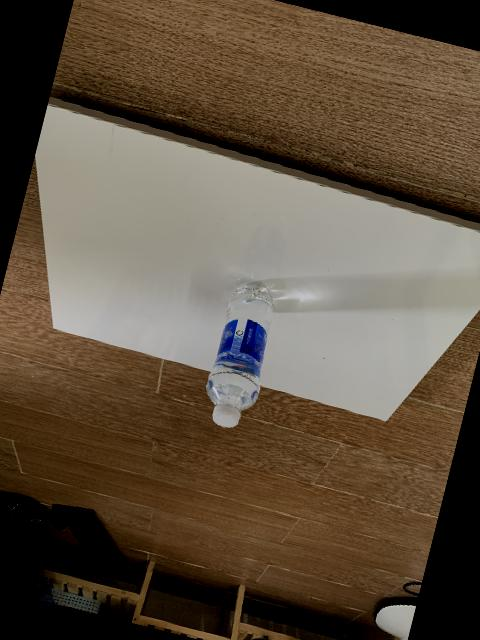aquafina: (205, 283, 273, 426)
